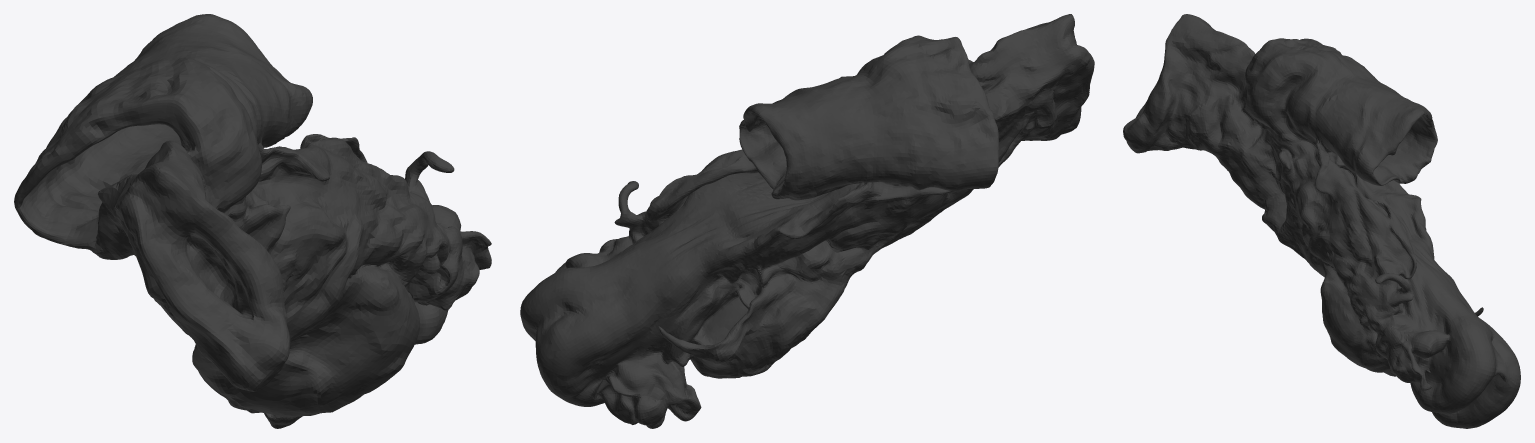
File: bovine_skeleton_cow_repro_tract.glb
3 renders of one model, left to right at view 1: azimuth 30°, elevation 25°; view 2: azimuth 150°, elevation 25°; view 3: azimuth 270°, elevation 25°, orthographic. The views are drawn at different scales.
Parts seen in each view (by area): view 1: bovine_skeleton_cow_repro_tract; view 2: bovine_skeleton_cow_repro_tract; view 3: bovine_skeleton_cow_repro_tract.
Part boxes in pixels (x1,y1,x2,y2): bovine_skeleton_cow_repro_tract: (14, 14, 491, 428); bovine_skeleton_cow_repro_tract: (520, 14, 1094, 428); bovine_skeleton_cow_repro_tract: (1123, 14, 1520, 428).
Size of the model in its own units: 0.00341 by 0.0029 by 0.00353.
Materials: 1 (1 with a texture image).
